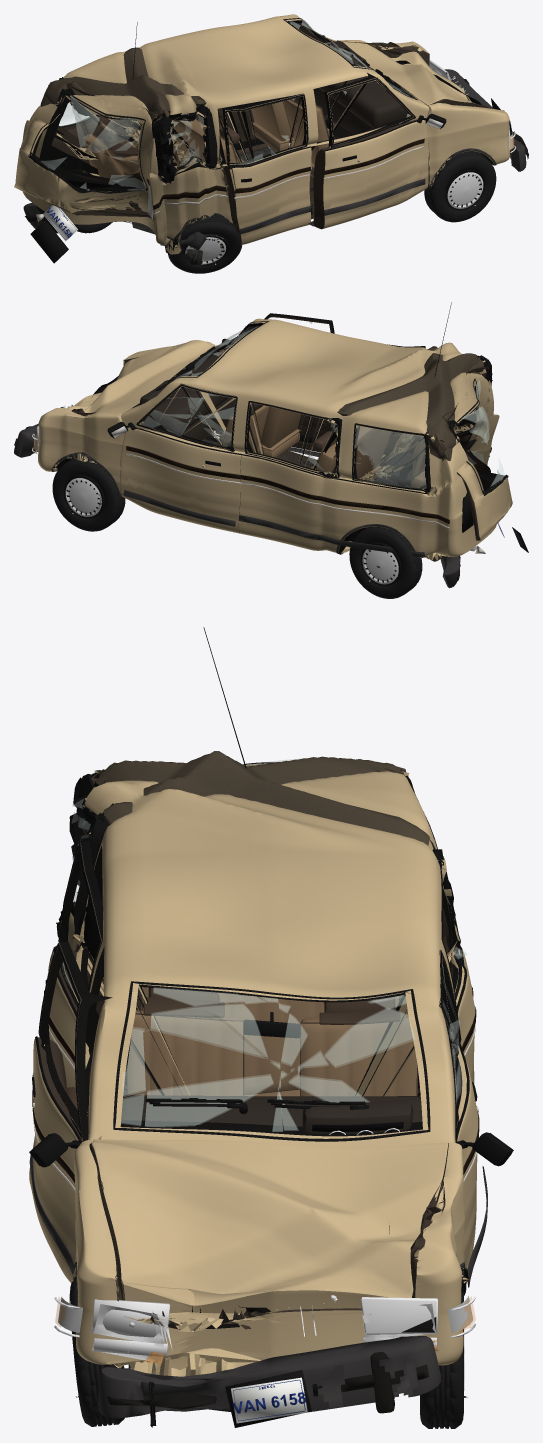
Rendered from minivan86_rear_corner_R_d2_lod1.glb.
3 views of the same model, one above another, from view 1: azimuth 30°, elevation 25°; view 2: azimuth 150°, elevation 25°; view 3: azimuth 270°, elevation 25° (orthographic). The views are drawn at different scales.
Visible parts, largest first — view 1: Body, Interior, Door_FR, Liftgate, Door_SR, Wheel_FR_mesh, Hood, Glass_Liftgate, Glass, Wheel_RR_mesh, Trim_FR, Ends (+7 smaller); view 2: Body, Door_FL, Interior, Trim, Glass, Liftgate, Hood, Wheel_FL_mesh, Wheel_RL_mesh, Trim_FL, Glass_FL, Glass_Liftgate (+4 smaller); view 3: Body, Hood, Interior, Glass, Bumper_F, Ends, Door_FR, Door_SR, Trim_FR, Door_FL, Trim, Trim_FL (+3 smaller).
Part boxes in pixels (x1,y1,x2,y2): Body: (22,14,509,256); Interior: (83,41,409,178); Door_FR: (313,73,429,229); Liftgate: (14,77,162,220); Door_SR: (222,93,311,244); Wheel_FR_mesh: (424,151,496,222); Hood: (343,42,493,108); Glass_Liftgate: (28,88,147,193); Glass: (59,18,417,182); Wheel_RR_mesh: (168,213,242,273); Trim_FR: (308,78,446,226); Ends: (30,60,515,263); Body: (38,318,499,561); Door_FL: (120,384,241,533); Interior: (140,354,425,487); Trim: (51,302,492,558); Glass: (132,321,492,492); Liftgate: (425,357,512,540); Hood: (66,340,212,413); Wheel_FL_mesh: (52,458,125,531); Wheel_RL_mesh: (349,526,422,598); Trim_FL: (107,384,241,526); Glass_FL: (141,384,237,451); Glass_Liftgate: (449,378,508,495); Body: (68,751,475,1376); Hood: (89,1139,448,1329); Interior: (121,986,422,1134); Glass: (72,774,467,1141); Bumper_F: (98,1336,440,1427); Ends: (54,1295,476,1427); Door_FR: (29,941,112,1282); Door_SR: (45,841,103,1088); Trim_FR: (29,943,82,1274); Door_FL: (439,949,478,1283); Trim: (69,627,476,1334); Trim_FL: (440,950,513,1287).
Size of the model in its own units: 4.58 by 2.34 by 2.04.
Materials: 34 (5 with a texture image).
